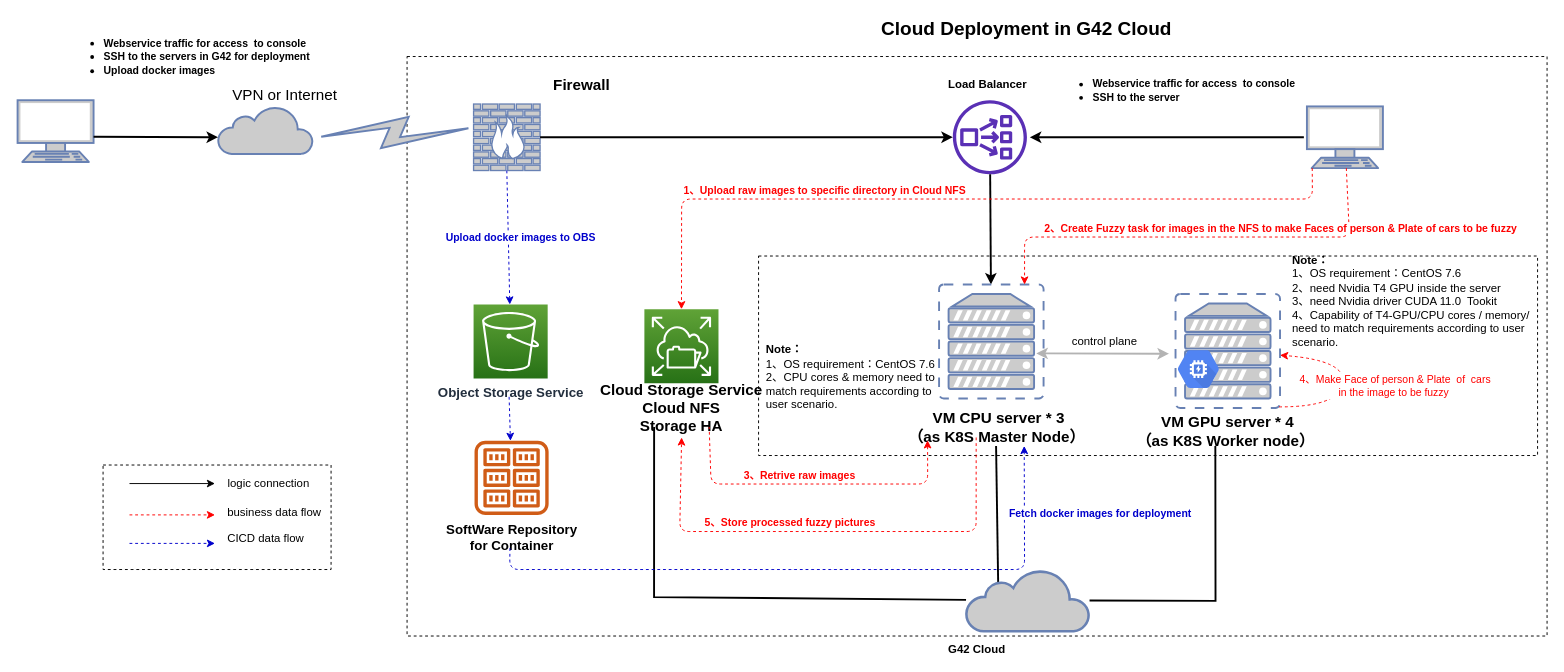
The diagram is 1564 pixels wide and 672 high, and some of its shapes have lost their labels. Here are the shapes that lost their labels. From the top down, the centre of each, then its label:
At (1198,368): "GPU".
At (1027,600): "VPC in Cloud".
